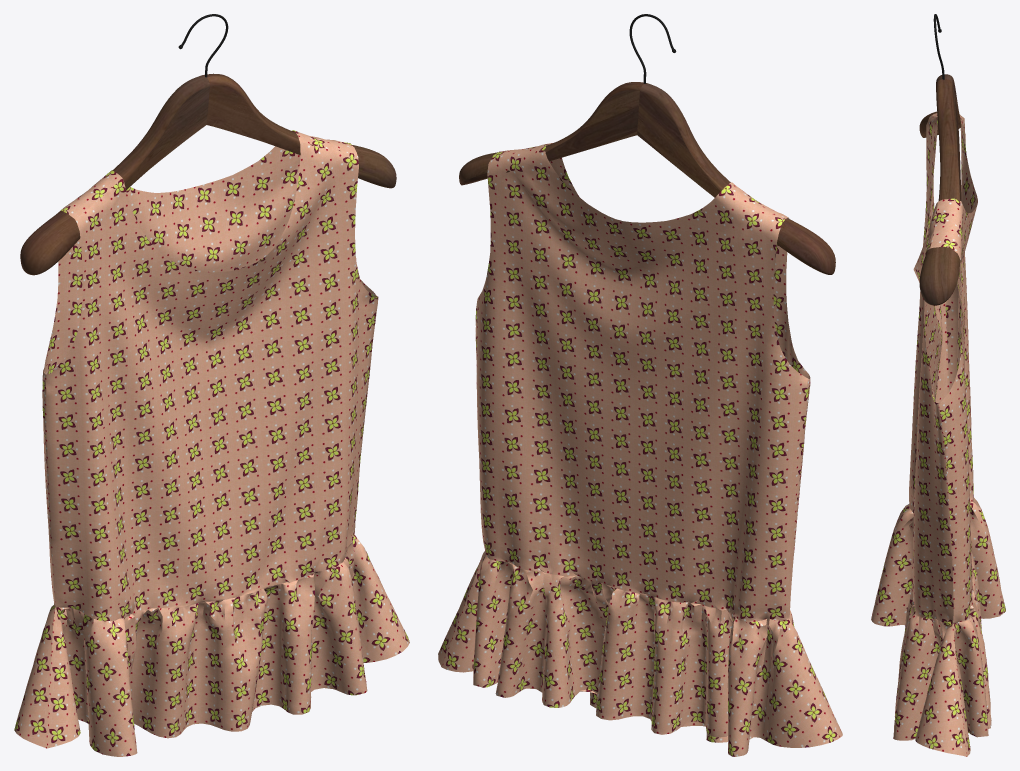
Rendered from FE1235_Aski.fbx.
3 renders of one model, left to right at view 1: azimuth 30°, elevation 25°; view 2: azimuth 150°, elevation 25°; view 3: azimuth 270°, elevation 25°, orthographic. The views are drawn at different scales.
Visible parts, largest first — view 1: 3__Default_Inner_5_1, Mat_1_1; view 2: 3__Default_Inner_5_1, Mat_1_1; view 3: 3__Default_Inner_5_1, Mat_1_1.
Boxes of the visible parts, left/top/right/bottom form: 3__Default_Inner_5_1: left=14, top=130, right=409, bottom=756; Mat_1_1: left=20, top=14, right=396, bottom=275; 3__Default_Inner_5_1: left=438, top=143, right=842, bottom=756; Mat_1_1: left=459, top=14, right=835, bottom=274; 3__Default_Inner_5_1: left=871, top=113, right=1005, bottom=756; Mat_1_1: left=919, top=14, right=961, bottom=305.
Bounding box in the file's own units: 0.4978 × 0.8566 × 0.1559.
Materials: 3 (3 with a texture image).
